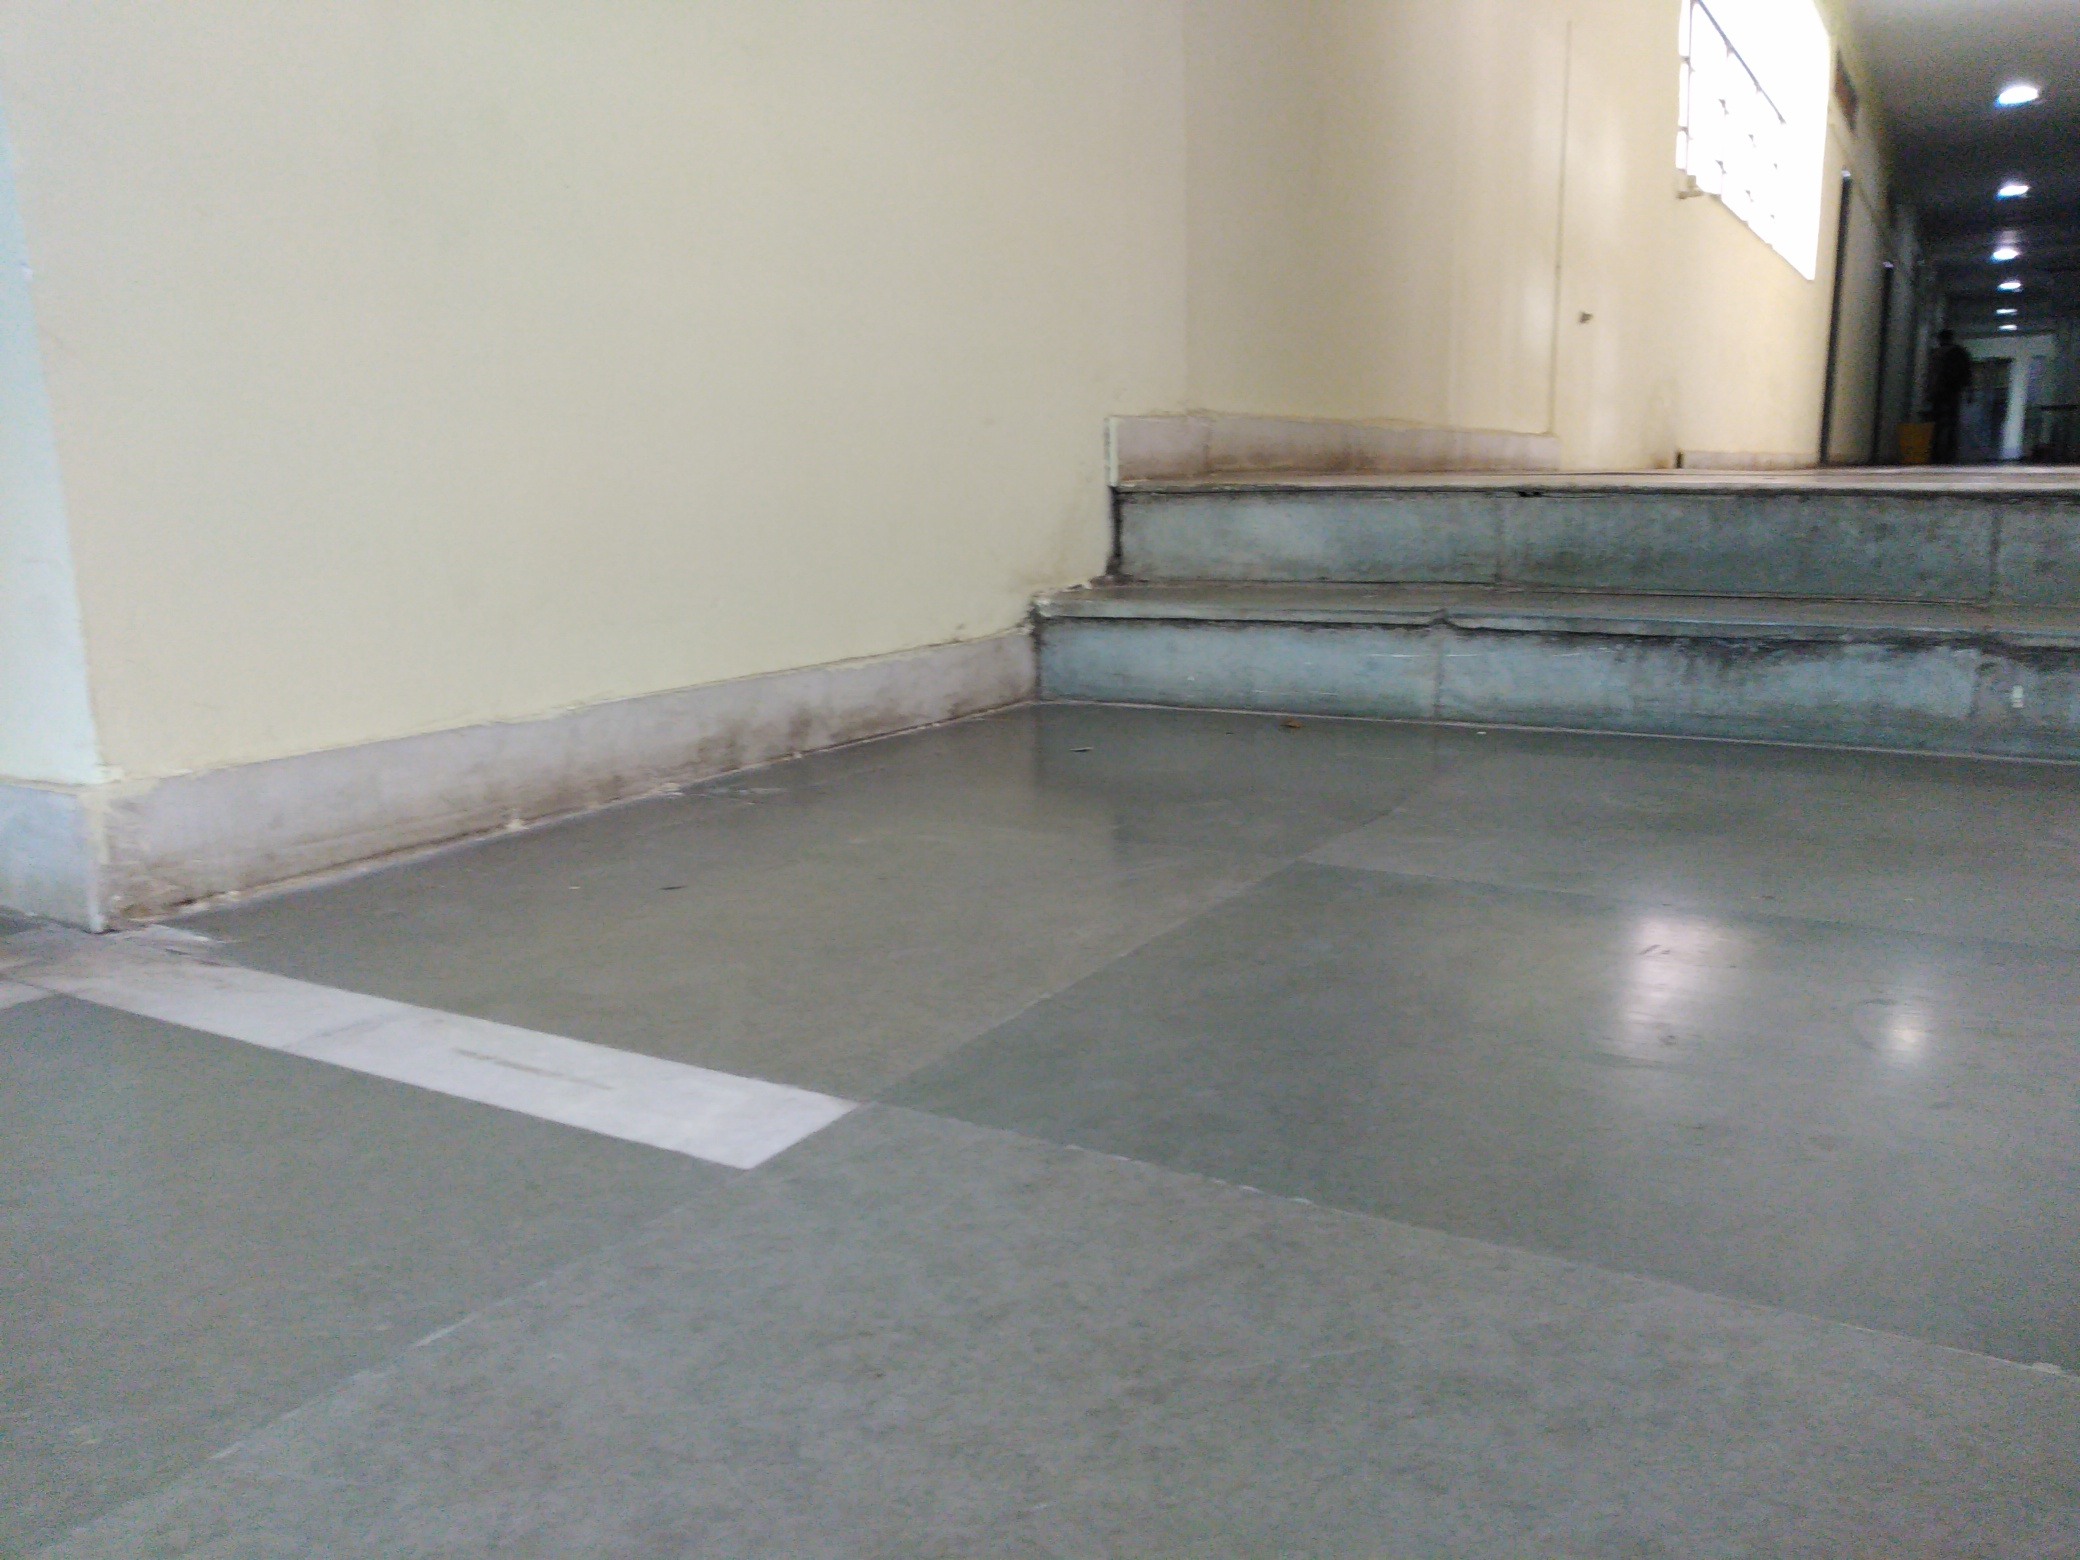stairs_up: (1025, 460, 2078, 739)
